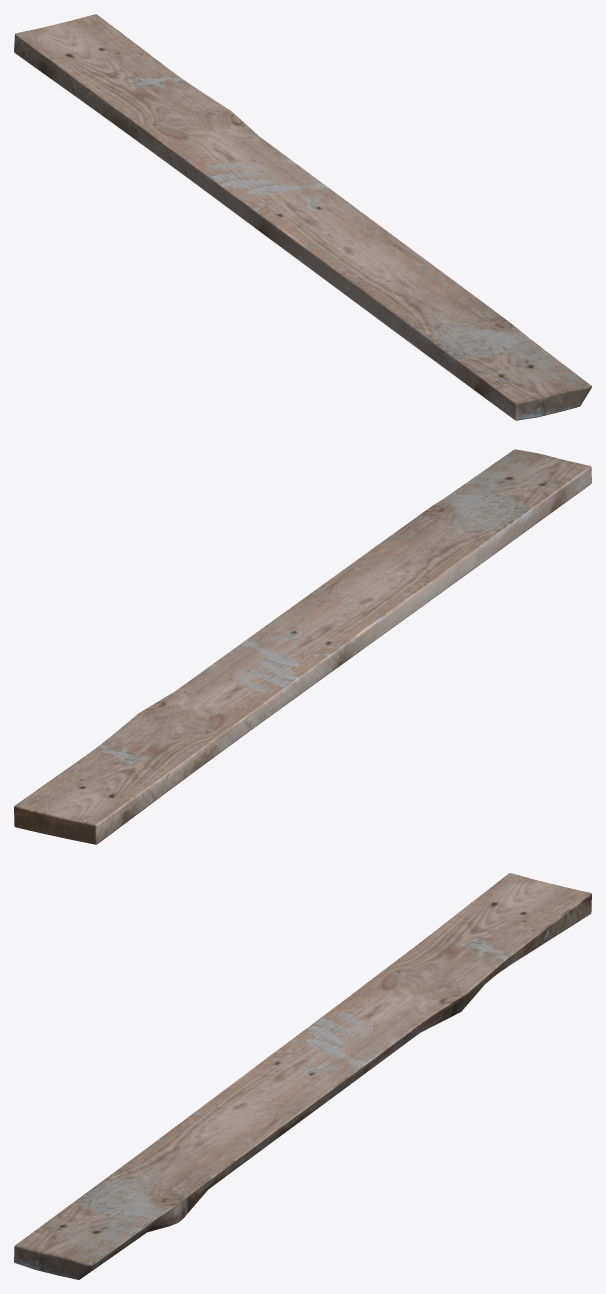
File: sm_WoodPallet_01_07.fbx
3 views of the same model, one above another, from view 1: azimuth 30°, elevation 25°; view 2: azimuth 150°, elevation 25°; view 3: azimuth 330°, elevation 25° (orthographic).
Visible parts, largest first — view 1: sm_WoodPallet_01_07_LOD0; view 2: sm_WoodPallet_01_07_LOD0; view 3: sm_WoodPallet_01_07_LOD0.
Part boxes in pixels (bbox=[...]): sm_WoodPallet_01_07_LOD0: bbox=[14, 14, 591, 420]; sm_WoodPallet_01_07_LOD0: bbox=[14, 449, 591, 844]; sm_WoodPallet_01_07_LOD0: bbox=[14, 873, 591, 1279].
Size of the model in its own units: 119 by 12.15 by 3.54.
